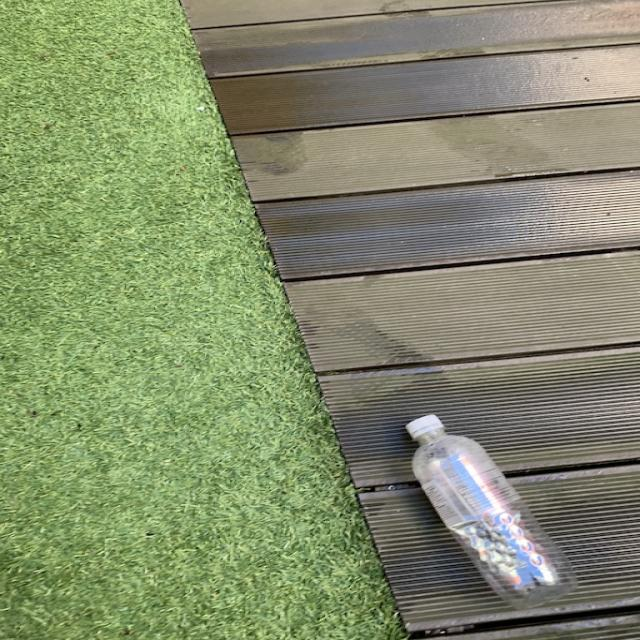Waste: (408, 416, 579, 610)
